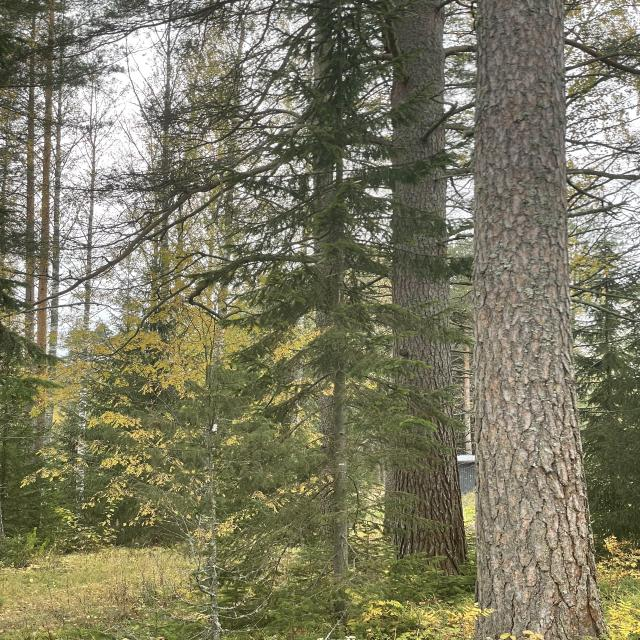spruce: (203, 0, 468, 640)
